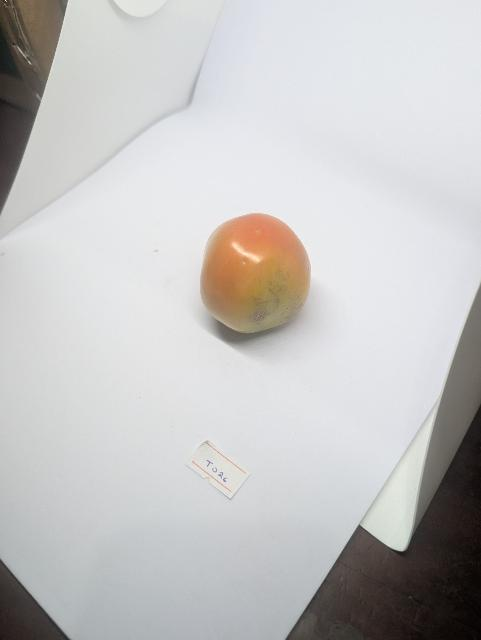turning: (189, 204, 320, 347)
